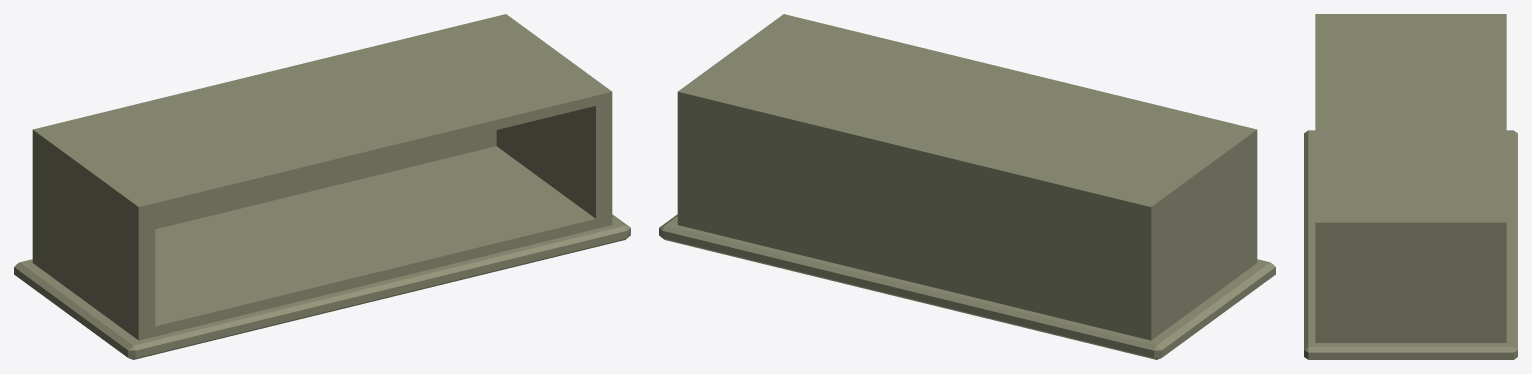
File: DrawermeshSideTableDrawer_311_2_1_1_GeomSubset_0.obj
3 renders of one model, left to right at view 1: azimuth 30°, elevation 25°; view 2: azimuth 150°, elevation 25°; view 3: azimuth 270°, elevation 25°, orthographic. The views are drawn at different scales.
Parts seen in each view (by area): view 1: DrawermeshSideTableDrawer_311_2_1_1_GeomSubset_0; view 2: DrawermeshSideTableDrawer_311_2_1_1_GeomSubset_0; view 3: DrawermeshSideTableDrawer_311_2_1_1_GeomSubset_0.
Part boxes in pixels (x1=…): DrawermeshSideTableDrawer_311_2_1_1_GeomSubset_0: x1=14, y1=14, x2=630, y2=359; DrawermeshSideTableDrawer_311_2_1_1_GeomSubset_0: x1=659, y1=14, x2=1275, y2=359; DrawermeshSideTableDrawer_311_2_1_1_GeomSubset_0: x1=1304, y1=14, x2=1517, y2=359.
Bounding box in the file's own units: 0.8934 × 0.2507 × 0.3645.
